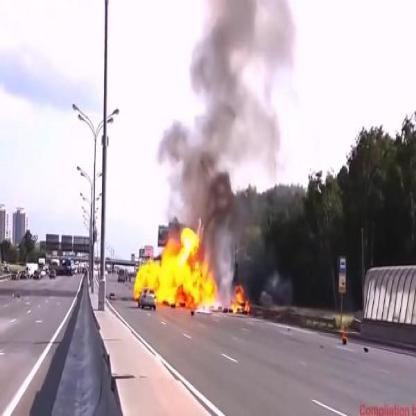fire: (130, 225, 252, 320)
